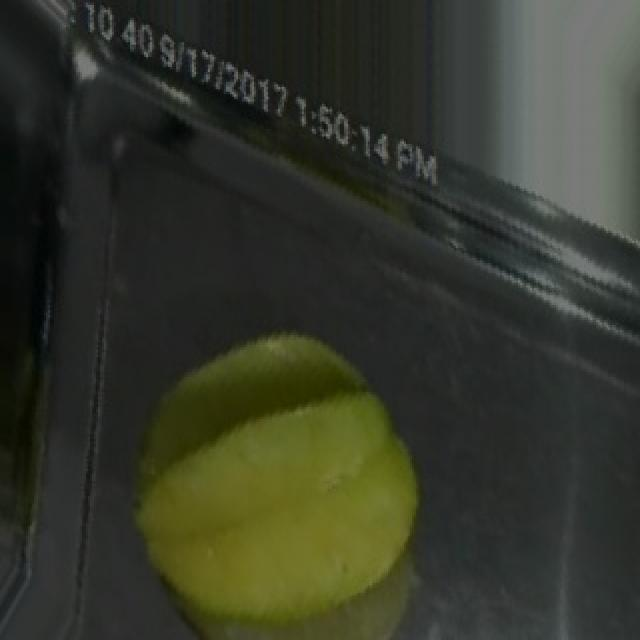fruit: (108, 307, 452, 640)
